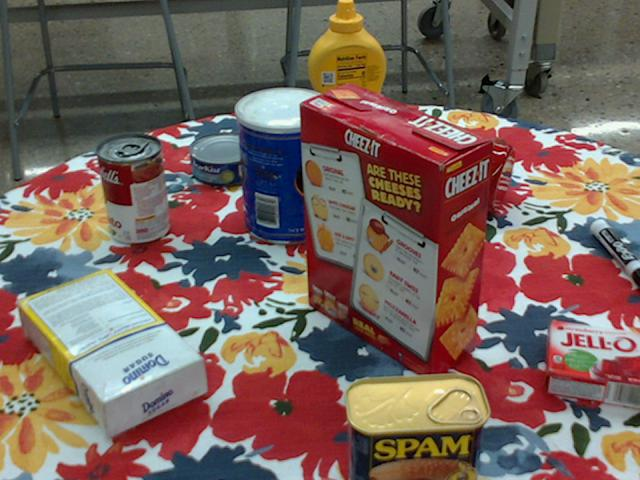cracker_box: (299, 85, 491, 384)
gelatin_box: (543, 320, 639, 406)
large_marker: (590, 217, 639, 287)
master_chef_can: (235, 87, 333, 244)
mug: (422, 123, 513, 212)
mustard_bottle: (307, 0, 385, 157)
potted_meat_can: (342, 373, 489, 479)
sugar_box: (18, 272, 206, 435)
tomato_soup_can: (97, 133, 169, 245)
tuna_fish_can: (190, 131, 261, 185)
